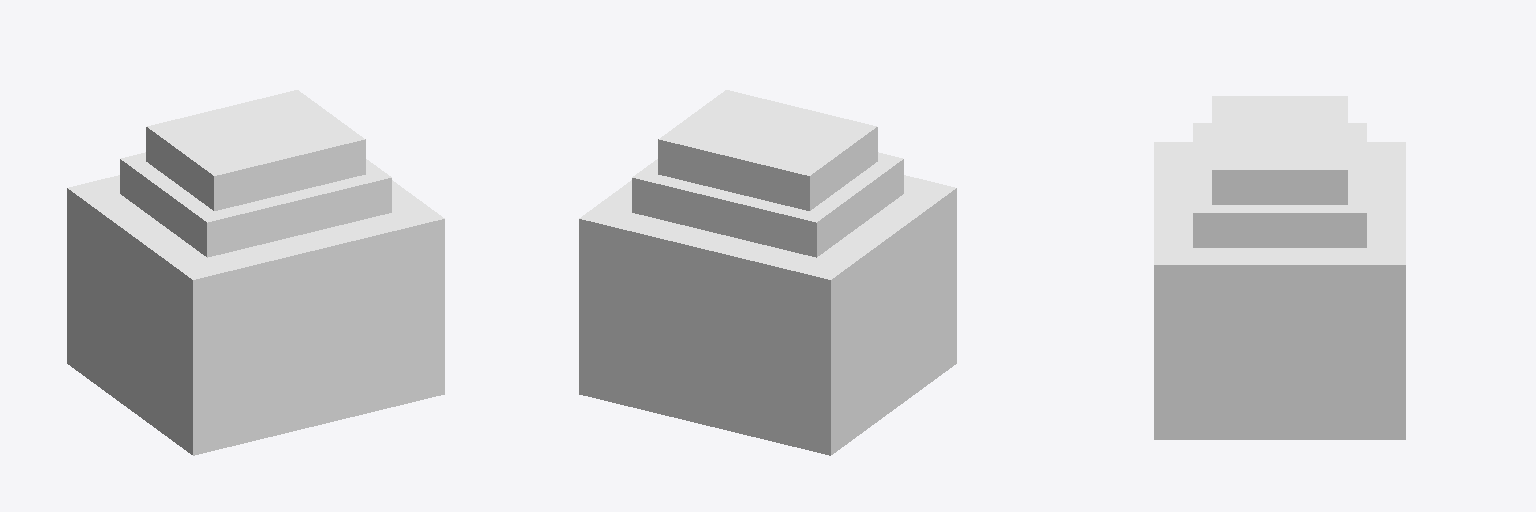
Rendered from TextUI.obj.
The picture shows the model from 3 angles: view 1: azimuth 30°, elevation 25°; view 2: azimuth 150°, elevation 25°; view 3: azimuth 270°, elevation 25°; orthographic projection.
Bounding box in the file's own units: 15 × 14 × 13.